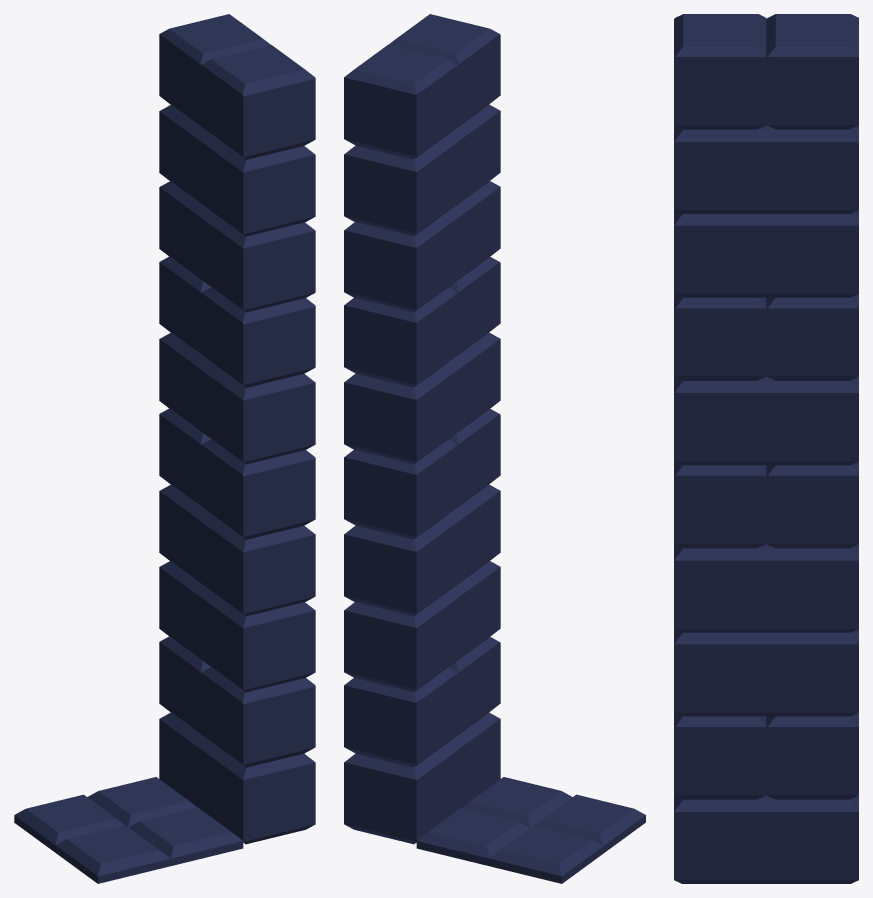
Rendered from Wall tiled.fbx.
3 renders of one model, left to right at view 1: azimuth 30°, elevation 25°; view 2: azimuth 150°, elevation 25°; view 3: azimuth 270°, elevation 25°, orthographic. The views are drawn at different scales.
Parts seen in each view (by area): view 1: obj_0.018; view 2: obj_0.018; view 3: obj_0.018.
Boxes of the visible parts, x1,y1,x2,y2 form: obj_0.018: [14, 14, 315, 883]; obj_0.018: [344, 14, 645, 883]; obj_0.018: [674, 14, 858, 883].
Size of the model in its own units: 3000 by 10000 by 2000.
